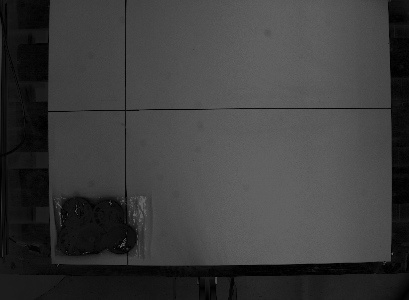t1: (50, 190, 155, 264)
